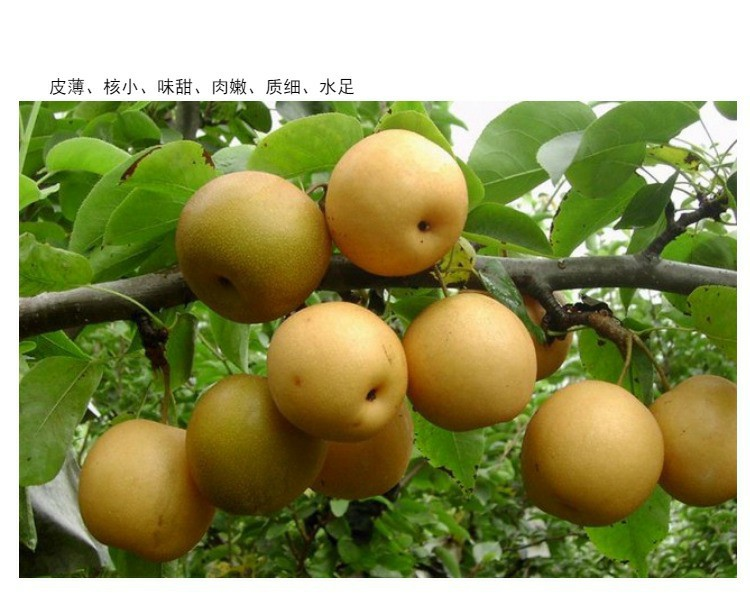pear: (173, 169, 330, 325), (518, 378, 665, 525), (326, 128, 469, 277), (263, 301, 408, 440), (187, 371, 319, 516), (78, 417, 212, 558), (402, 293, 536, 430), (305, 385, 415, 500), (648, 375, 737, 504)
